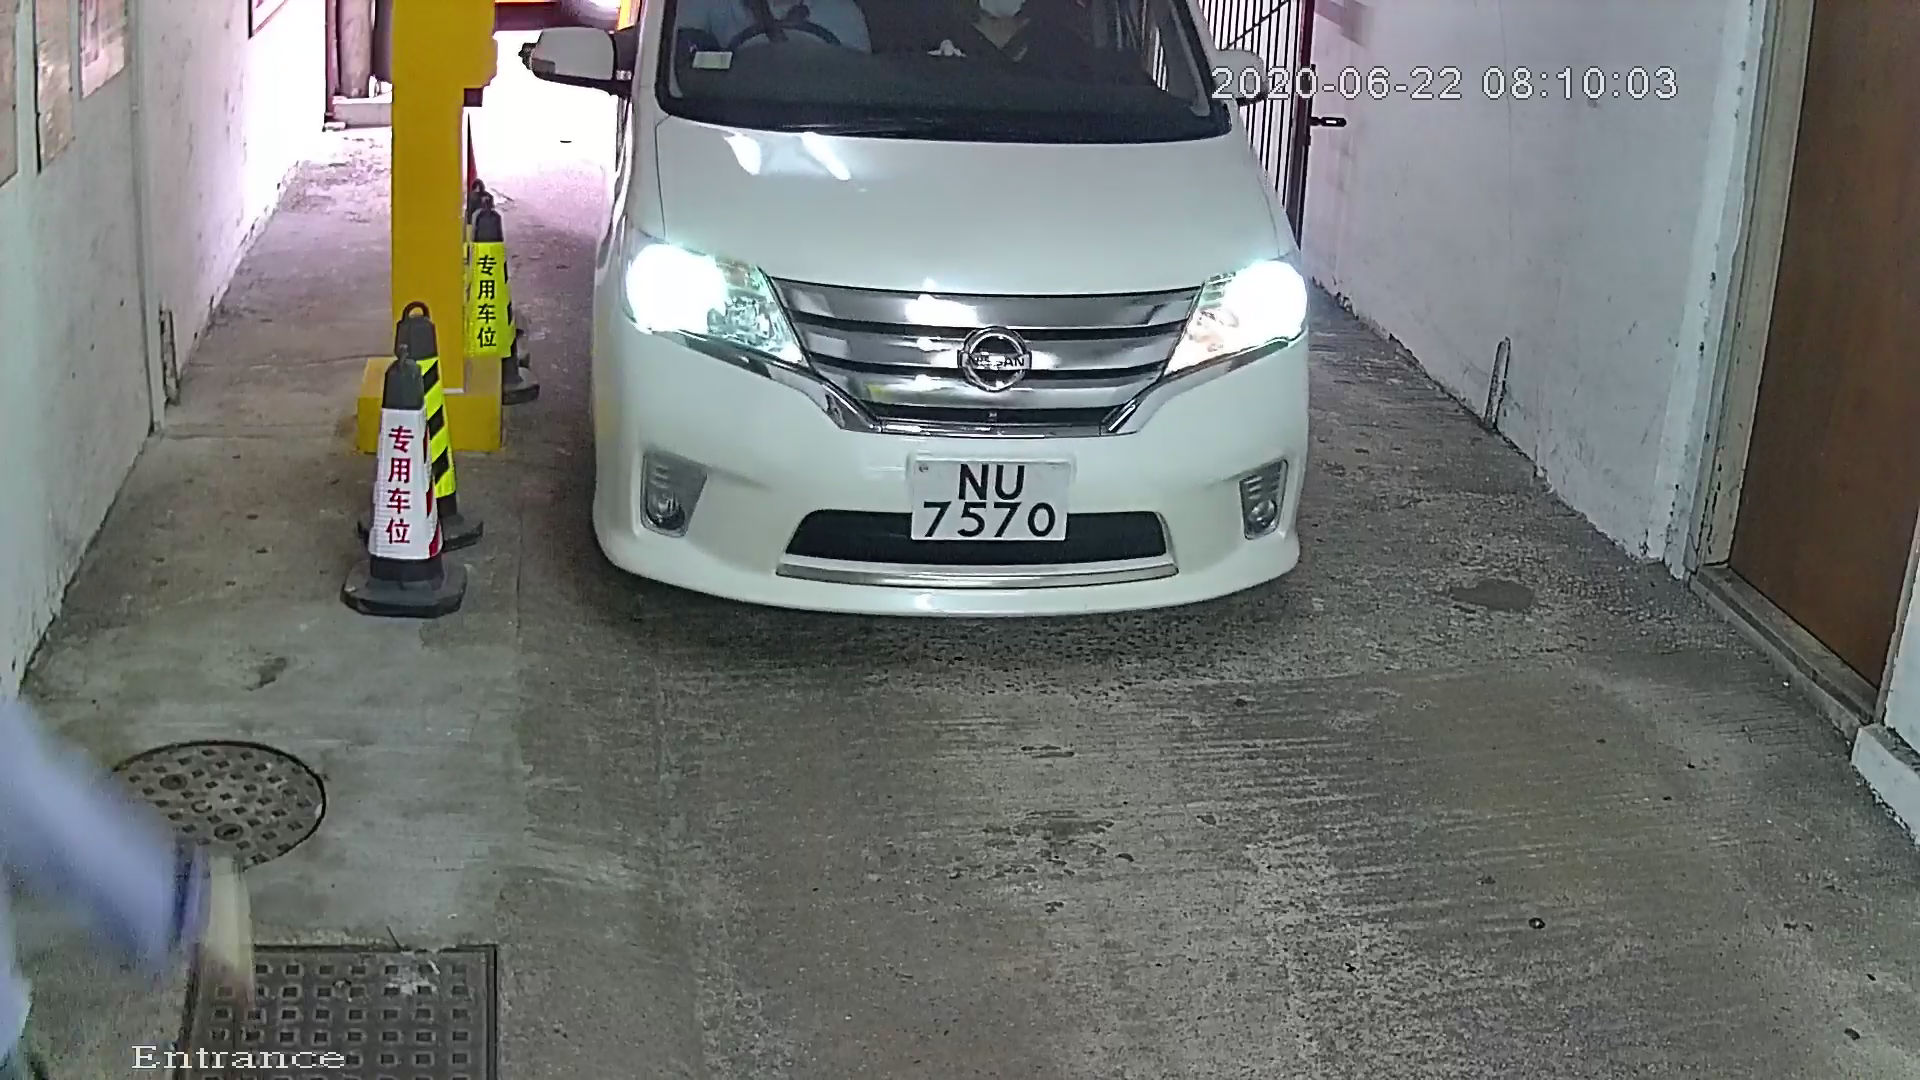privatecar: (495, 1, 1415, 665)
